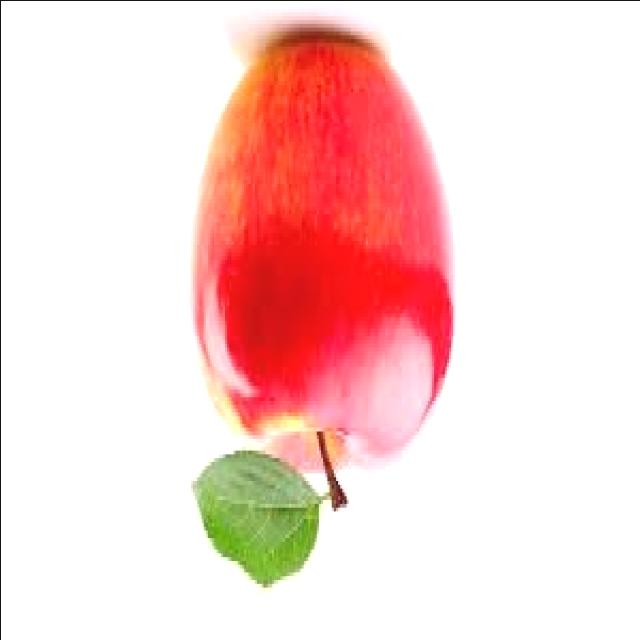non_orange: (115, 0, 482, 521)
